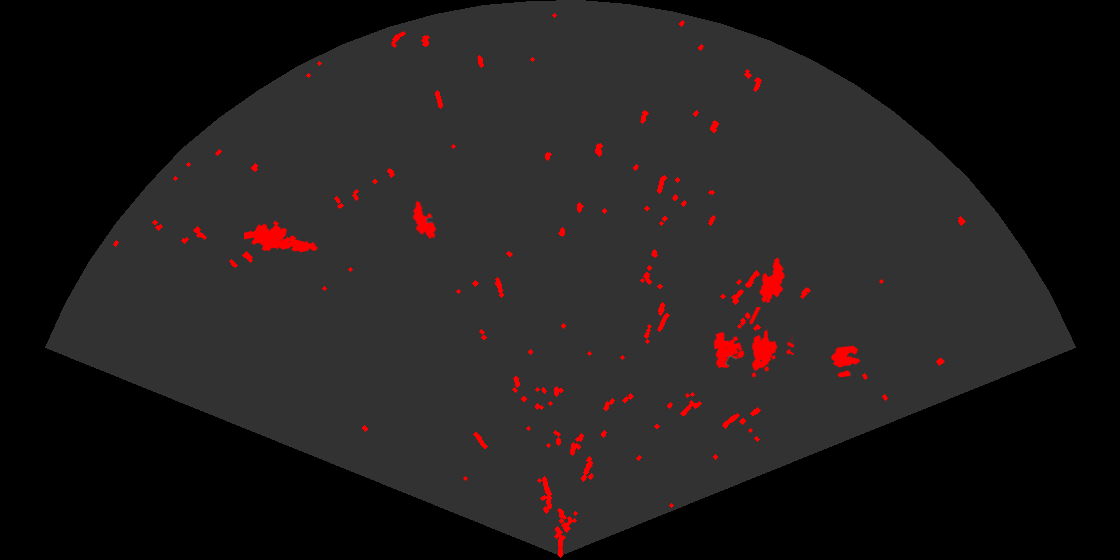AUV: (758, 256, 786, 305), (411, 199, 438, 241)
ball: (830, 344, 862, 379)
cage: (712, 307, 794, 379)
frogman: (244, 219, 319, 254)
